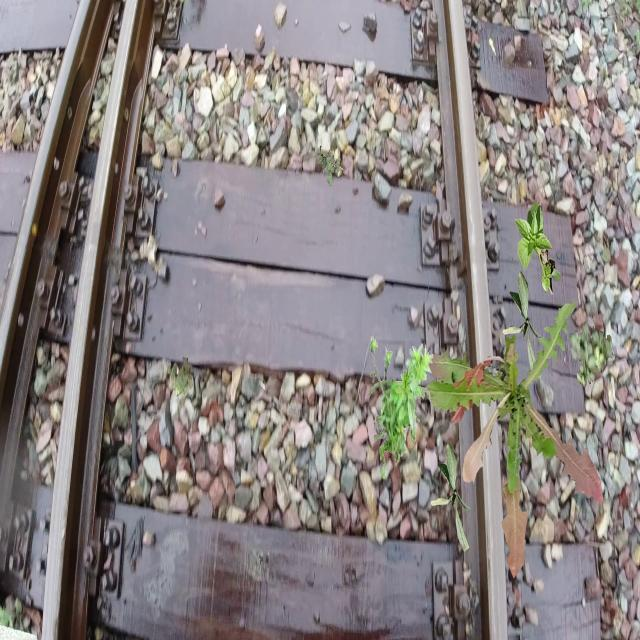Plant: (423, 301, 603, 579), (369, 336, 434, 479), (514, 200, 562, 295), (503, 271, 543, 381), (431, 442, 471, 552), (569, 322, 612, 388), (316, 146, 344, 187), (168, 357, 194, 400), (396, 370, 414, 402)
